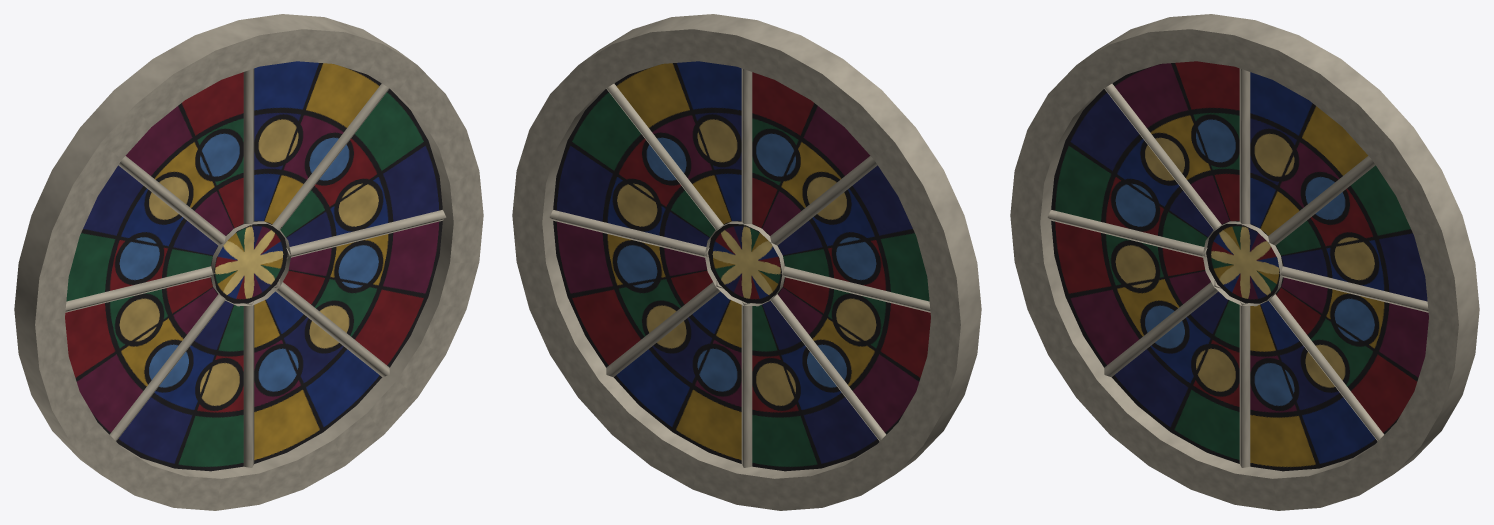
The model's file is Window_Rose_1.gltf.
The picture shows the model from 3 angles, left to right: view 1: azimuth 30°, elevation 25°; view 2: azimuth 150°, elevation 25°; view 3: azimuth 330°, elevation 25°; orthographic projection.
Visible parts, largest first — view 1: Window_Rose_1; view 2: Window_Rose_1; view 3: Window_Rose_1.
Part boxes in pixels (x1,y1,x2,y2): Window_Rose_1: (14, 14, 483, 510); Window_Rose_1: (512, 14, 981, 510); Window_Rose_1: (1010, 14, 1479, 510).
Size of the model in its own units: 3 by 3 by 0.24.
2 materials, 2 textured.
